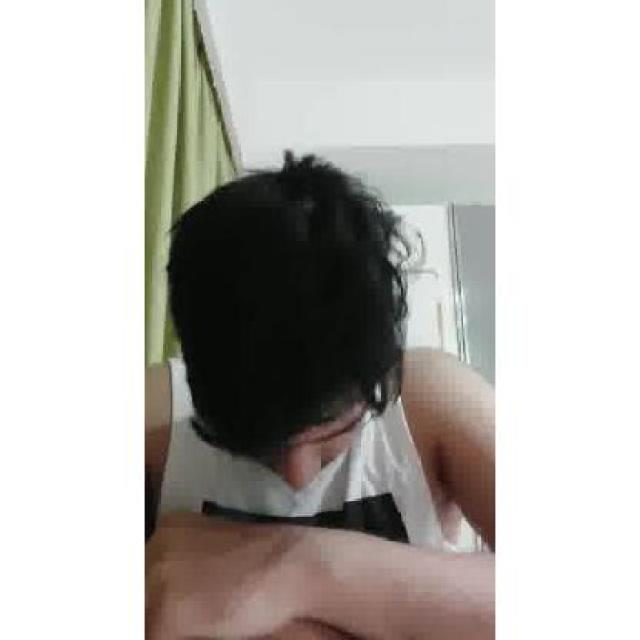inattentif: (176, 151, 370, 492)
